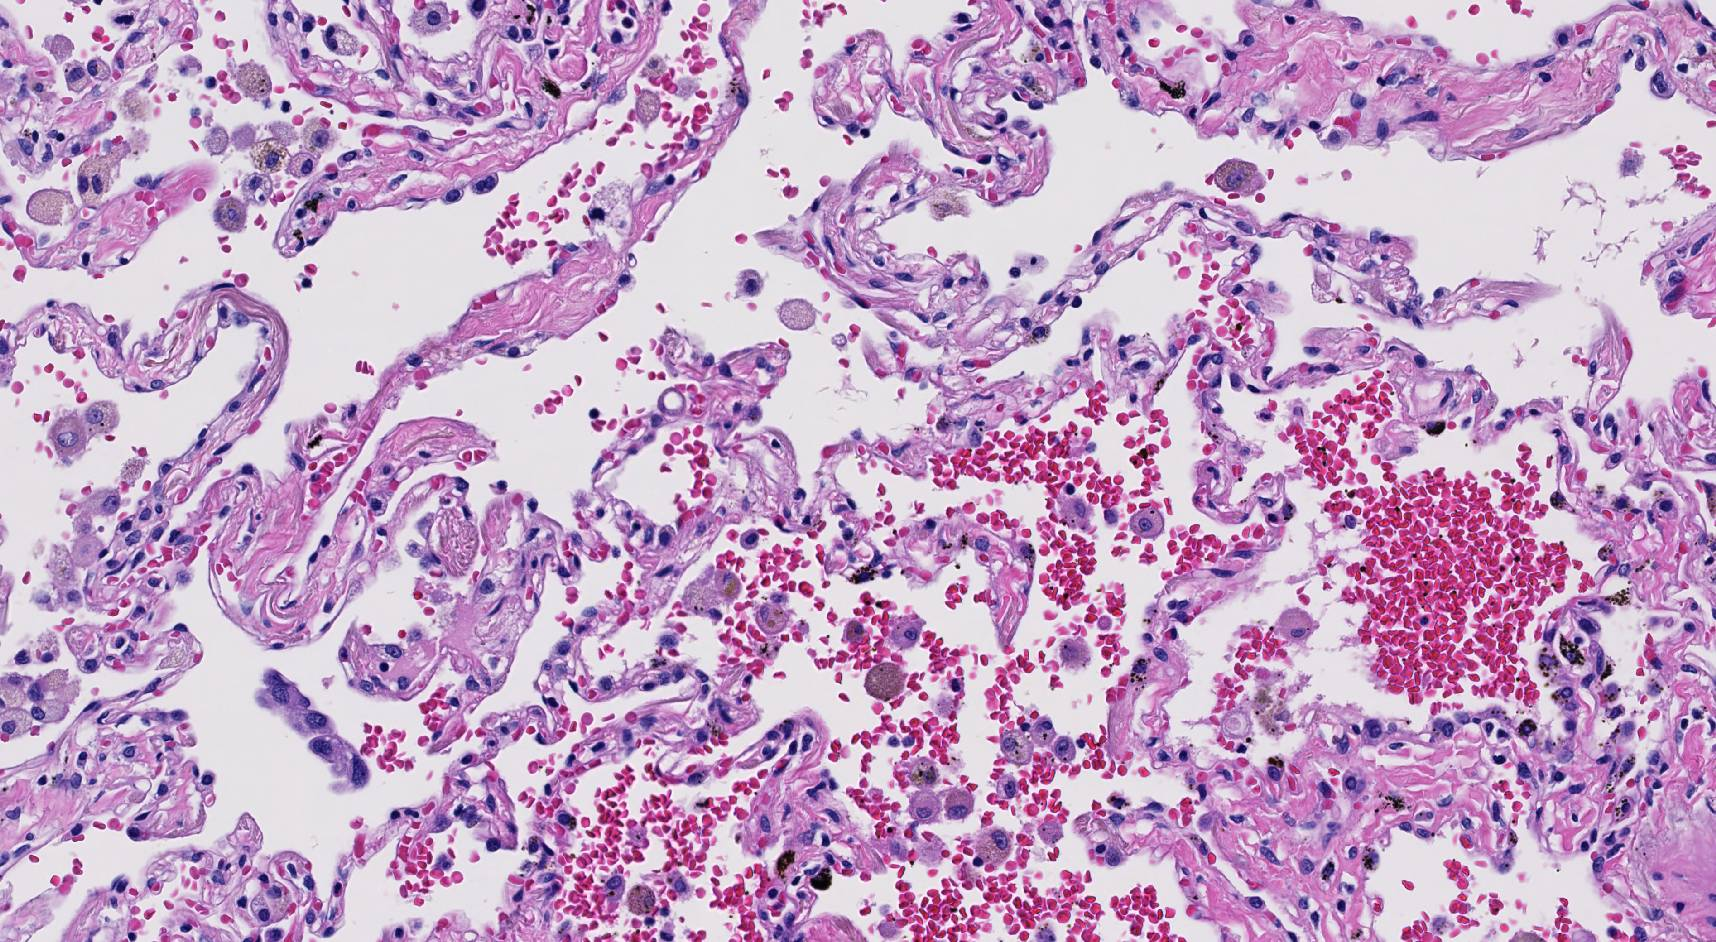stas: (254, 668, 371, 794)
